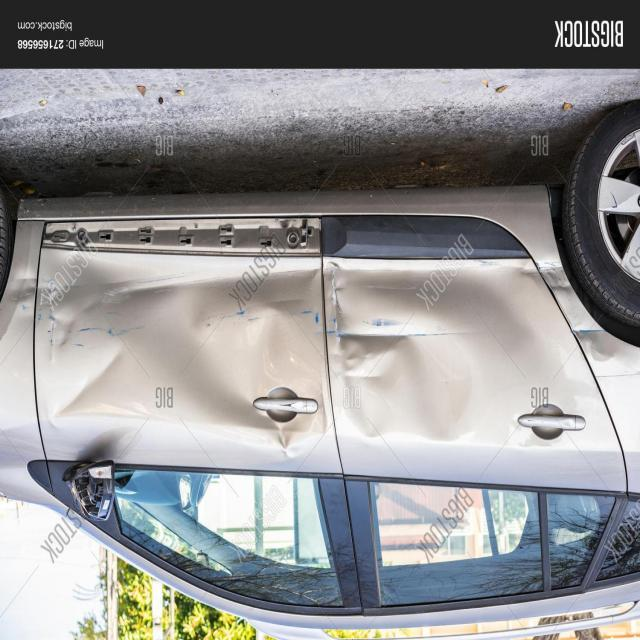dent: (324, 240, 610, 466), (8, 236, 314, 444)
